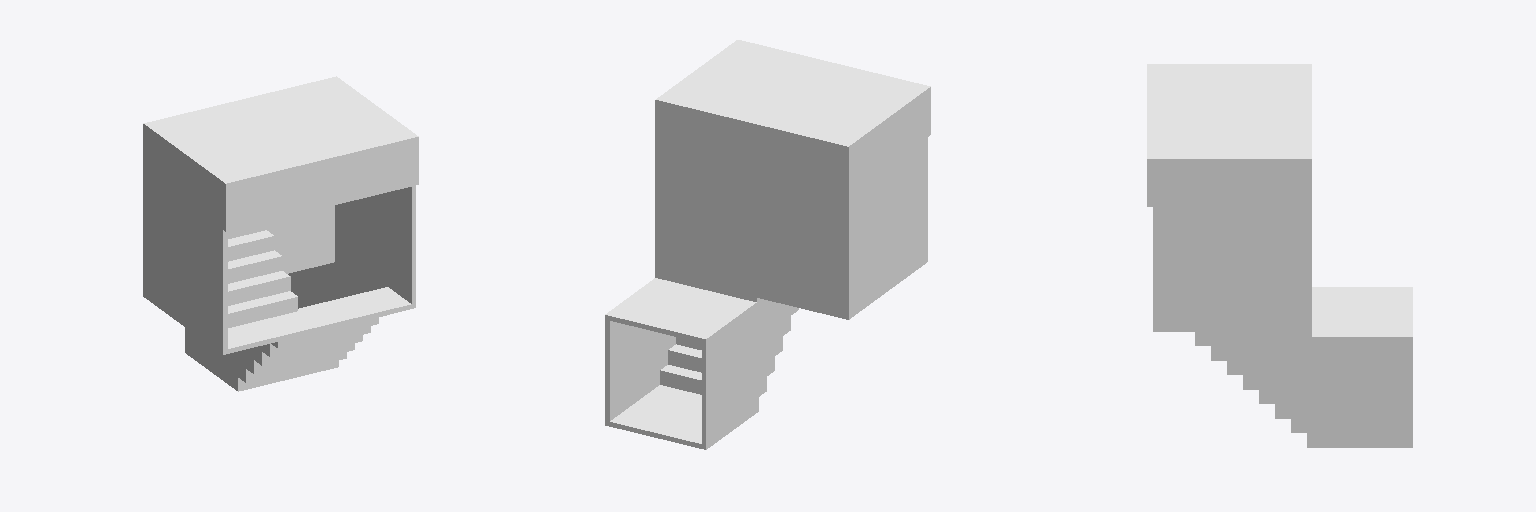
Rendered from store_3.obj.
3 renders of one model, left to right at view 1: azimuth 30°, elevation 25°; view 2: azimuth 150°, elevation 25°; view 3: azimuth 270°, elevation 25°, orthographic.
Visible parts, largest first — view 1: store_3; view 2: store_3; view 3: store_3.
Boxes of the visible parts, x1=… form: store_3: x1=143, y1=76, x2=418, y2=391; store_3: x1=605, y1=40, x2=930, y2=449; store_3: x1=1147, y1=64, x2=1412, y2=447.
Bounding box in the file's own units: 42 × 60 × 50.